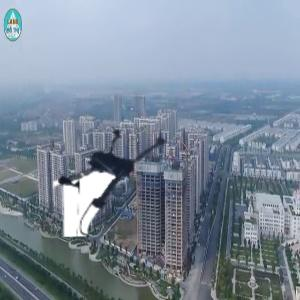drone: (52, 102, 187, 237)
